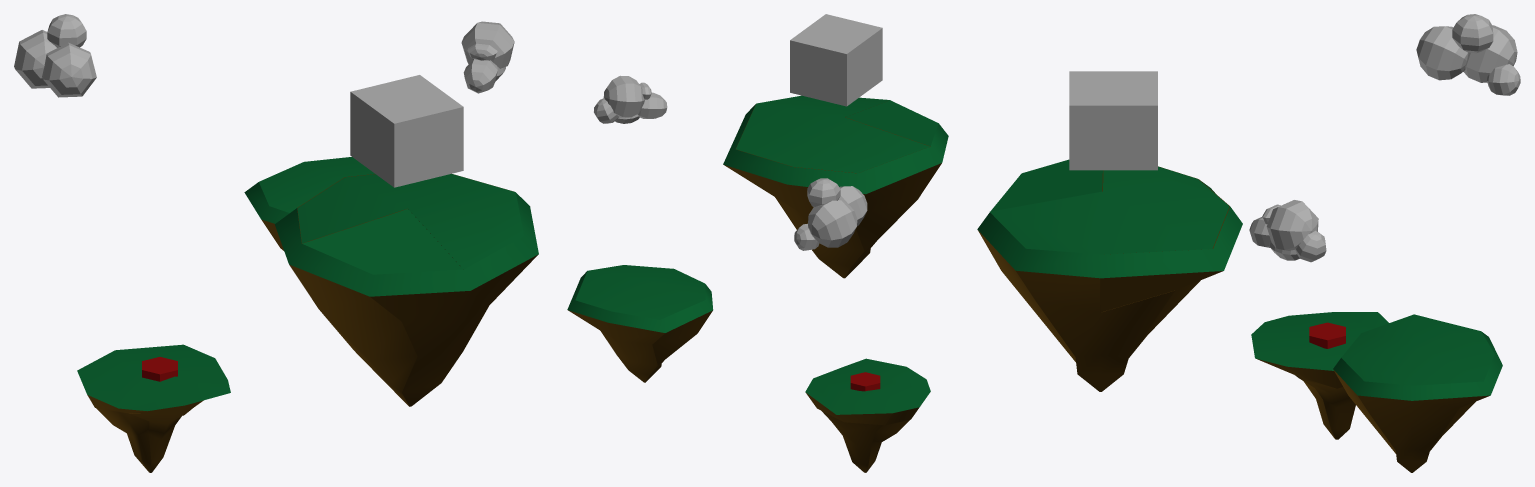
File: Trial_Level_2.fbx
3 renders of one model, left to right at view 1: azimuth 30°, elevation 25°; view 2: azimuth 150°, elevation 25°; view 3: azimuth 270°, elevation 25°, orthographic. The views are drawn at different scales.
Visible parts, largest first — view 1: pCube3, pCube5, pCube1, pSphere6, pCube2, pSphere11, pCylinder1; view 2: pCube3, pCube2, pCube1, pCube5, pSphere6, pSphere11, pCylinder1; view 3: pCube3, pCube2, pCube5, pCube1, pSphere6, pSphere11, pCylinder1.
Boxes of the visible parts, x1,y1,x2,y2 form: pCube3: (275,173,538,406); pCube5: (350,75,463,187); pCube1: (77,344,230,472); pSphere6: (14,14,96,97); pCube2: (244,157,374,250); pSphere11: (461,21,514,93); pCylinder1: (142,357,177,381); pCube3: (723,95,948,278); pCube2: (567,265,713,382); pCube1: (805,358,930,472); pCube5: (790,14,882,106); pSphere6: (794,178,867,250); pSphere11: (594,75,667,123); pCylinder1: (850,372,880,391); pCube3: (977,159,1242,391); pCube2: (1333,314,1502,472); pCube5: (1069,71,1157,170); pCube1: (1251,312,1388,439); pSphere6: (1416,14,1520,95); pSphere11: (1249,200,1326,262); pCylinder1: (1309,322,1345,348).
Bounding box in the file's own units: 22.51 × 22.14 × 25.78.
